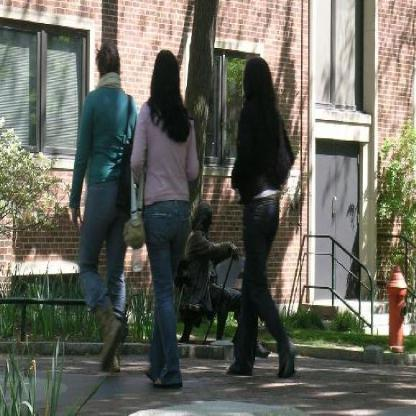person: (59, 36, 135, 364), (131, 44, 199, 392), (228, 57, 300, 376)
